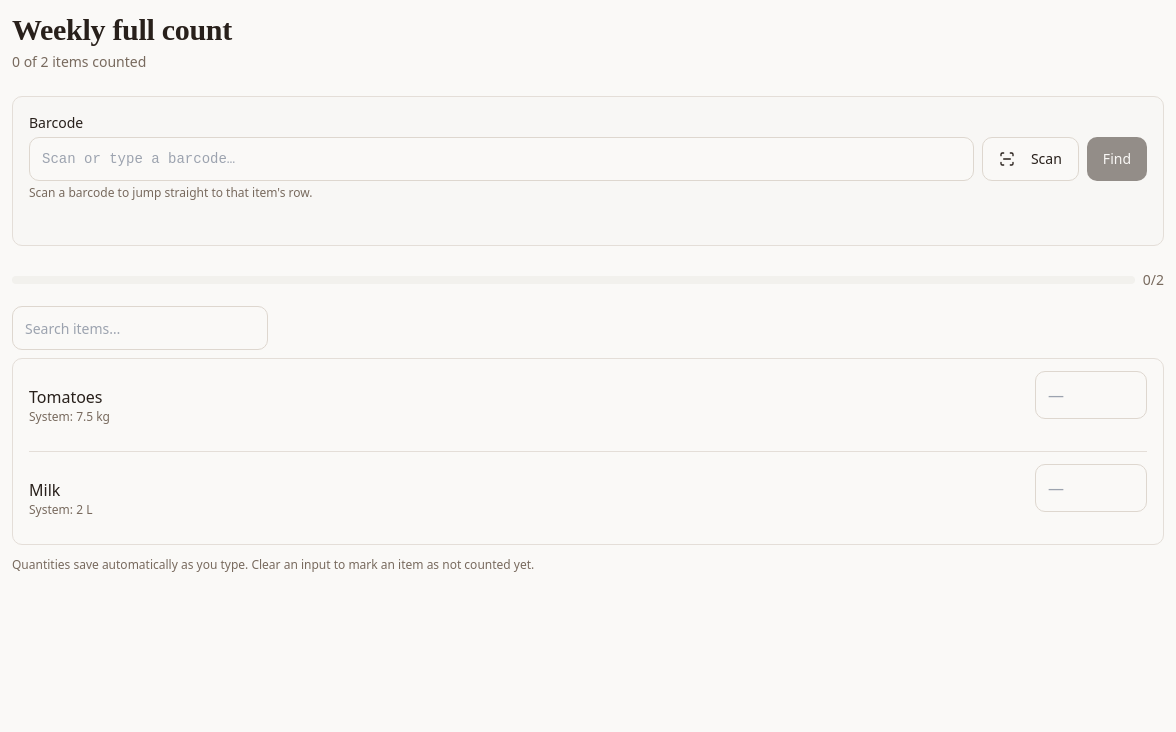
Scenario: CountSheetPage › rejects negative input locally without posting
Type "-3" into the field named "Counted quantity for Tomatoes".
click(1091, 395); type("-3")  # box [1035,371,1147,419]
Wait 700 ms
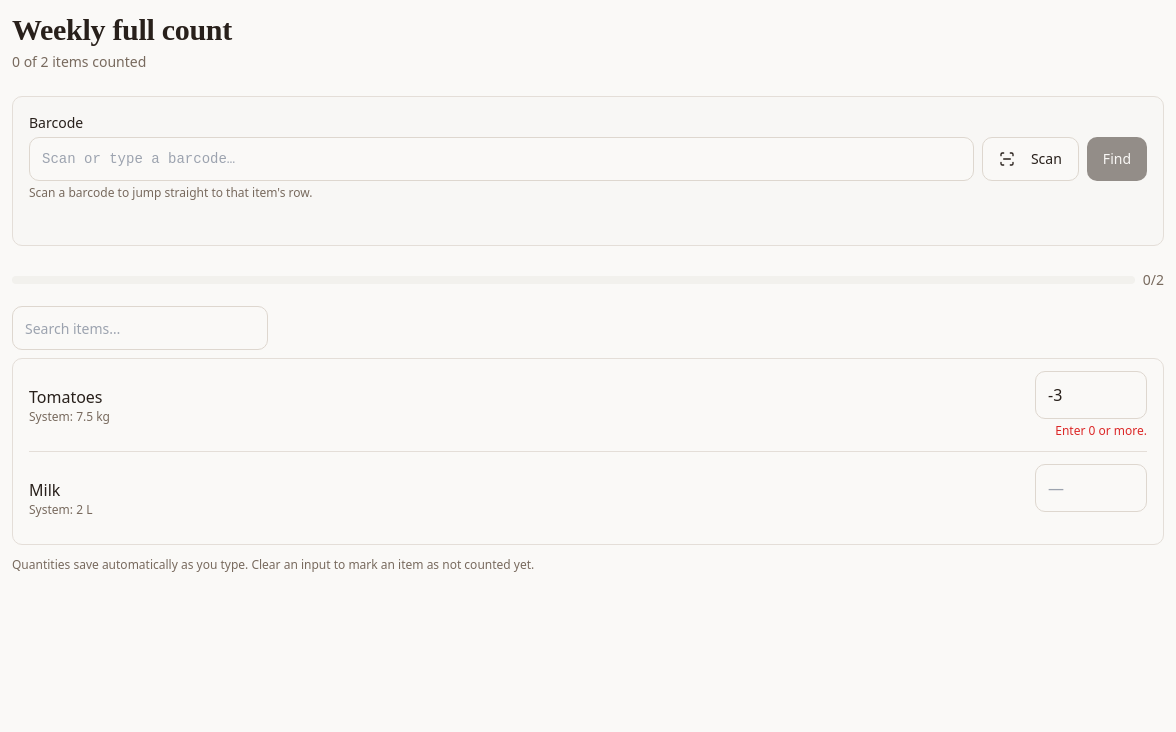
Result: the text "Enter 0 or more." is shown at [1055,423,1147,439]
